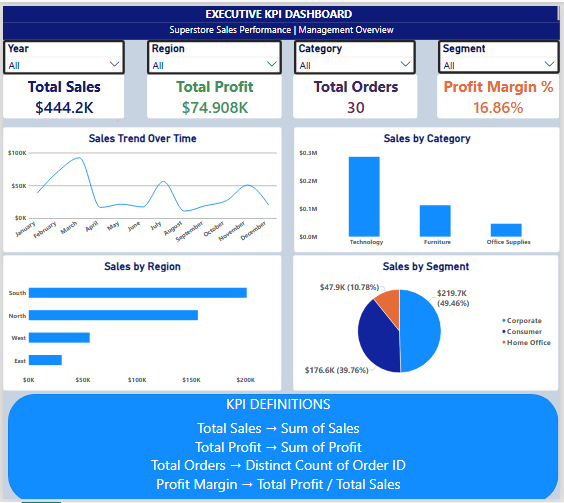

The page's visual inventory and layout, read from the dashboard file:
{"tool":"powerbi","page":{"name":"Page 1","canvas":[1920,1700],"ordinal":0},"visuals":[{"type":"shape","box":[0,0,1920,115.9],"z":0},{"type":"textbox","box":[0,0,1920,58],"z":1000},{"type":"textbox","box":[0,58,1920,58],"z":2000},{"type":"cardVisual","fields":{"Data":["Sheet1.Total Sales"]},"box":[0,235,419.9,154.3],"z":3000},{"type":"cardVisual","fields":{"Data":["Sheet1.Total Profit"]},"box":[495.8,235.3,465.5,154.3],"z":4000},{"type":"cardVisual","fields":{"Data":["Sheet1.Total Orders"]},"box":[999.2,235.3,430,154.3],"z":5000},{"type":"cardVisual","fields":{"Data":["Sheet1.Profit Margin %"]},"box":[1497.5,235.3,422.5,154.3],"z":6000},{"type":"slicer","fields":{"Values":["Sheet1.Order Date.Variation.Date Hierarchy.Year"]},"box":[0,116.4,419.9,118.9],"z":7000},{"type":"slicer","fields":{"Values":["Sheet1.Region"]},"box":[495.8,116.4,465.5,118.9],"z":8000},{"type":"slicer","fields":{"Values":["Sheet1.Category"]},"box":[1004.3,116.4,419.9,118.9],"z":9000},{"type":"slicer","fields":{"Values":["Sheet1.Segment"]},"box":[1500.1,118.9,419.9,116.4],"z":10000},{"type":"lineChart","title":"Sales Trend Over Time","fields":{"Category":["Sheet1.Order Date.Variation.Date Hierarchy.Month"],"Y":["Sheet1.Total Sales"]},"box":[0,416.9,961.2,432],"z":11000},{"type":"clusteredColumnChart","title":"Sales by Category","fields":{"Category":["Sheet1.Category"],"Y":["Sheet1.Total Sales"]},"box":[1004.4,416.9,915.8,432],"z":12000},{"type":"clusteredBarChart","title":"Sales by Region","fields":{"Category":["Sheet1.Region"],"Y":["Sheet1.Total Sales"]},"box":[0,860,960,467.5],"z":13000},{"type":"pieChart","title":"Sales by Segment","fields":{"Category":["Sheet1.Segment"],"Y":["Sheet1.Total Sales"]},"box":[1000,860,915,467.5],"z":14000},{"type":"textbox","box":[0,1337.5,915,87.5],"z":15000},{"type":"shape","box":[17.5,1337.5,1897.5,375],"z":16000},{"type":"textbox","box":[0,1337.5,1897.5,375],"z":17000},{"type":"textbox","box":[100,390,300,10],"z":18000}]}

Visuals, with their boxes in screenshot pixels (x1, y1, x2, y2), scaled from the page's 1920x1700 canvas onto the 564x503 screenshot:
shape: detection(0, 0, 563, 34)
textbox: detection(0, 0, 563, 17)
textbox: detection(0, 17, 563, 34)
cardVisual - Sheet1.Total Sales: detection(0, 70, 123, 115)
cardVisual - Sheet1.Total Profit: detection(146, 70, 282, 115)
cardVisual - Sheet1.Total Orders: detection(294, 70, 420, 115)
cardVisual - Sheet1.Profit Margin %: detection(440, 70, 563, 115)
slicer - Sheet1.Order Date.Variation.Date Hierarchy.Year: detection(0, 34, 123, 70)
slicer - Sheet1.Region: detection(146, 34, 282, 70)
slicer - Sheet1.Category: detection(295, 34, 418, 70)
slicer - Sheet1.Segment: detection(441, 35, 563, 70)
"Sales Trend Over Time" lineChart: detection(0, 123, 282, 251)
"Sales by Category" clusteredColumnChart: detection(295, 123, 563, 251)
"Sales by Region" clusteredBarChart: detection(0, 254, 282, 393)
"Sales by Segment" pieChart: detection(294, 254, 563, 393)
textbox: detection(0, 396, 269, 422)
shape: detection(5, 396, 563, 502)
textbox: detection(0, 396, 557, 502)
textbox: detection(29, 115, 118, 118)
